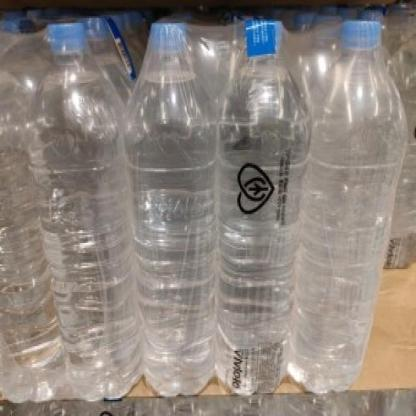Plastic Bottle: (289, 21, 408, 394), (36, 24, 140, 400), (218, 19, 307, 395), (127, 23, 216, 397)
